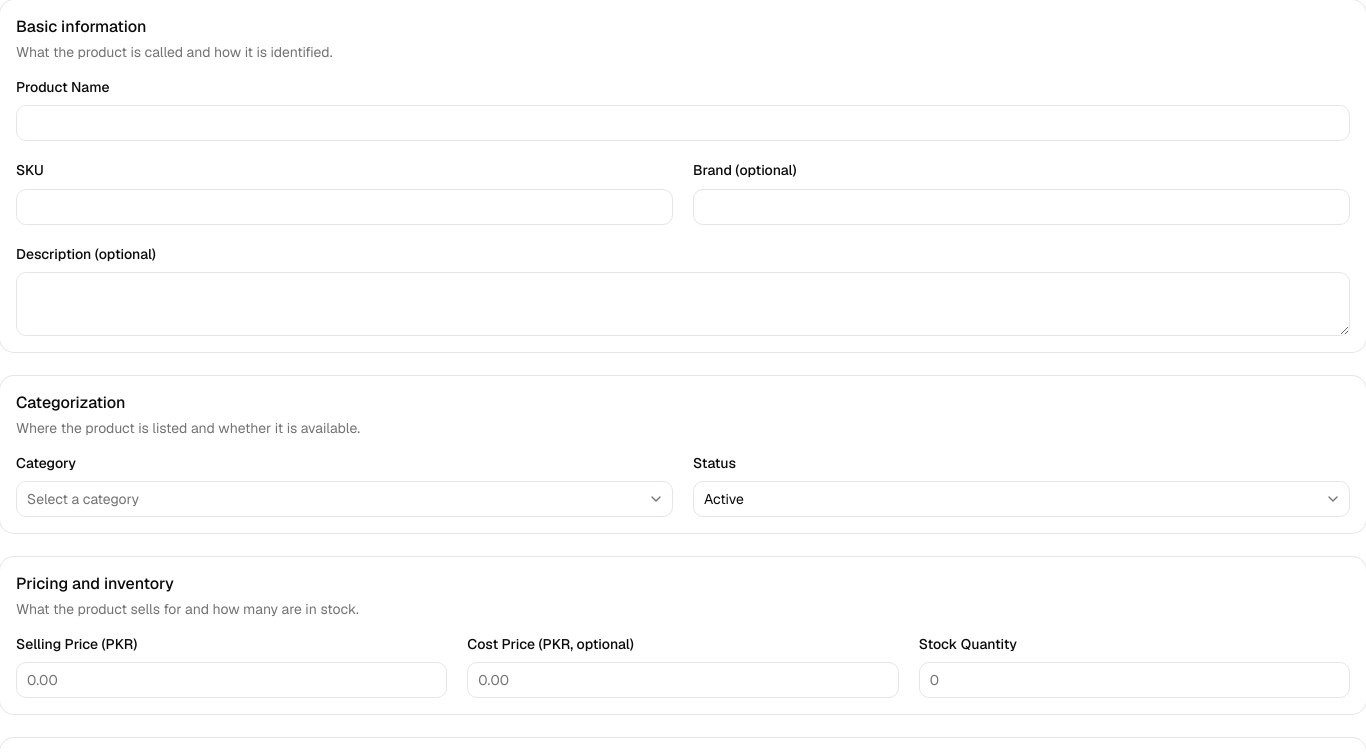
Test: ProductForm (create) › offers the categories it was given
This screenshot has width=1366, height=755.
Click the dropdown labelled "category".
click(83, 499)  # box x1=16 y1=481 x2=673 y2=517
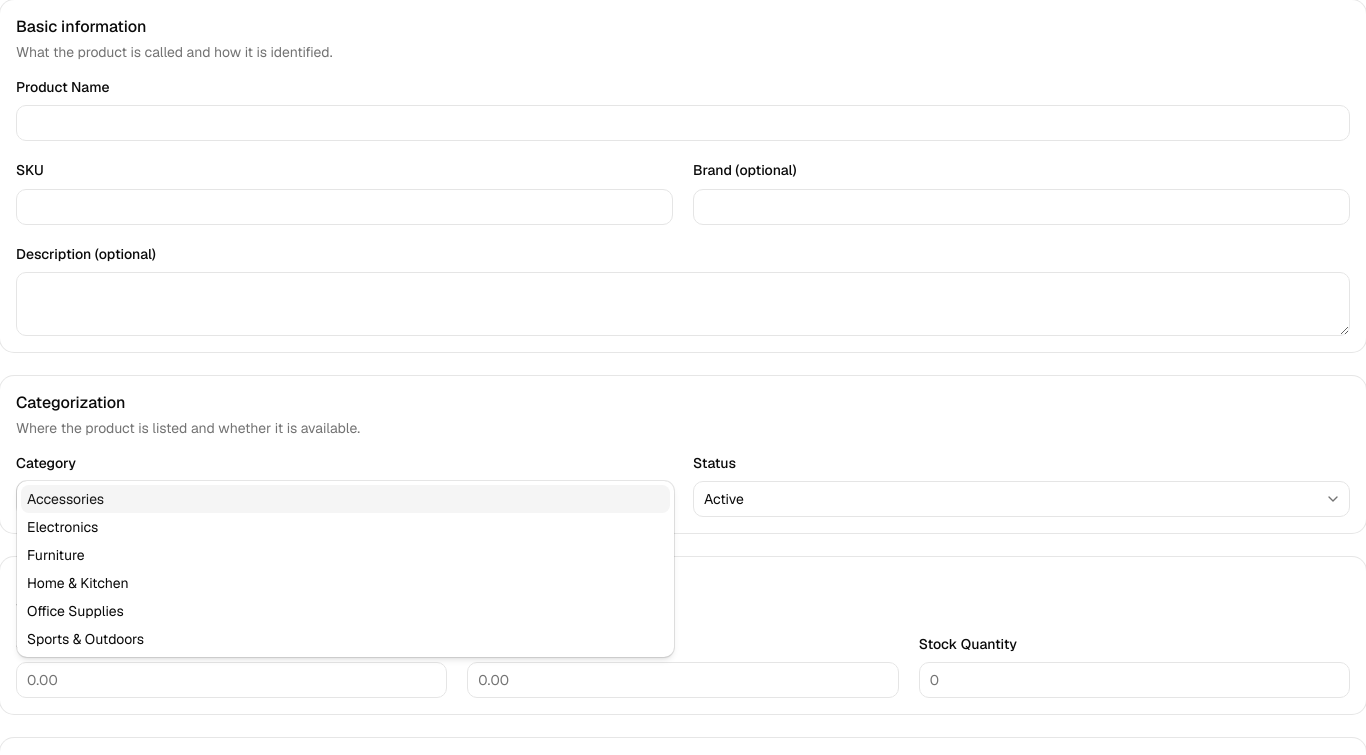
Expected: the option "Accessories" is shown, x1=21 y1=485 x2=670 y2=513
Expected: the option "Electronics" is shown, x1=27 y1=518 x2=98 y2=536
Expected: the option "Furniture" is shown, x1=27 y1=546 x2=85 y2=564
